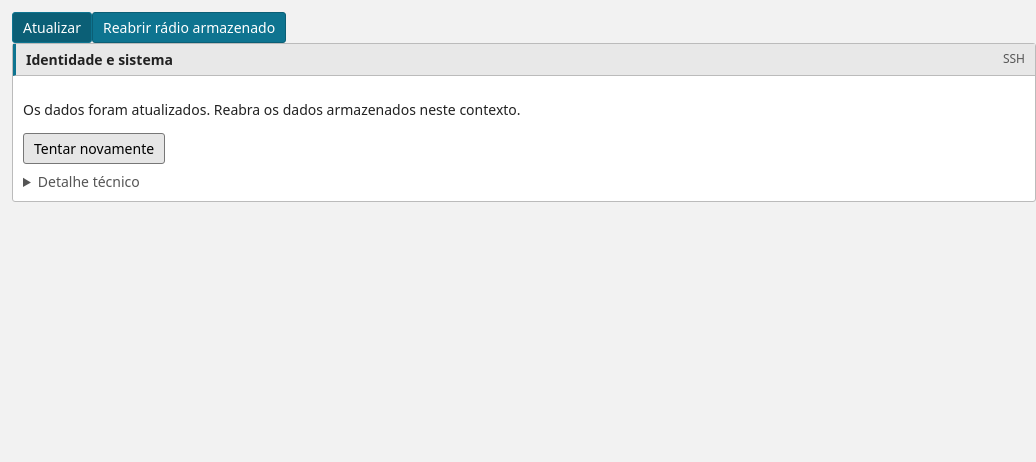
Scenario: a saved-radio failure recovers locally without reusing a retired reading ID or sending SSH
The image size is (1036, 462).
Click the button "Reabrir rádio armazenado": {"x": 189, "y": 28} [92, 12, 286, 43]
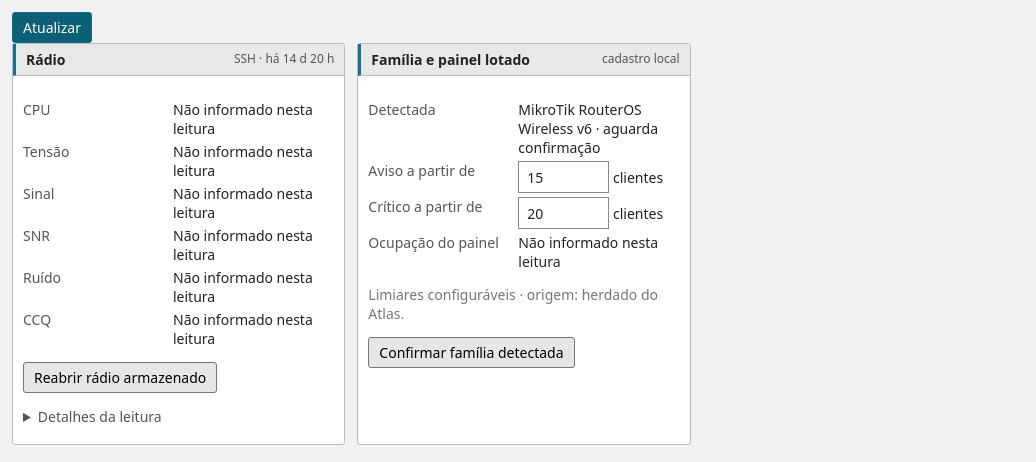
expect the message "Os dados foram atualizados. Reabra os dados armazenados neste contexto." is gone: met
